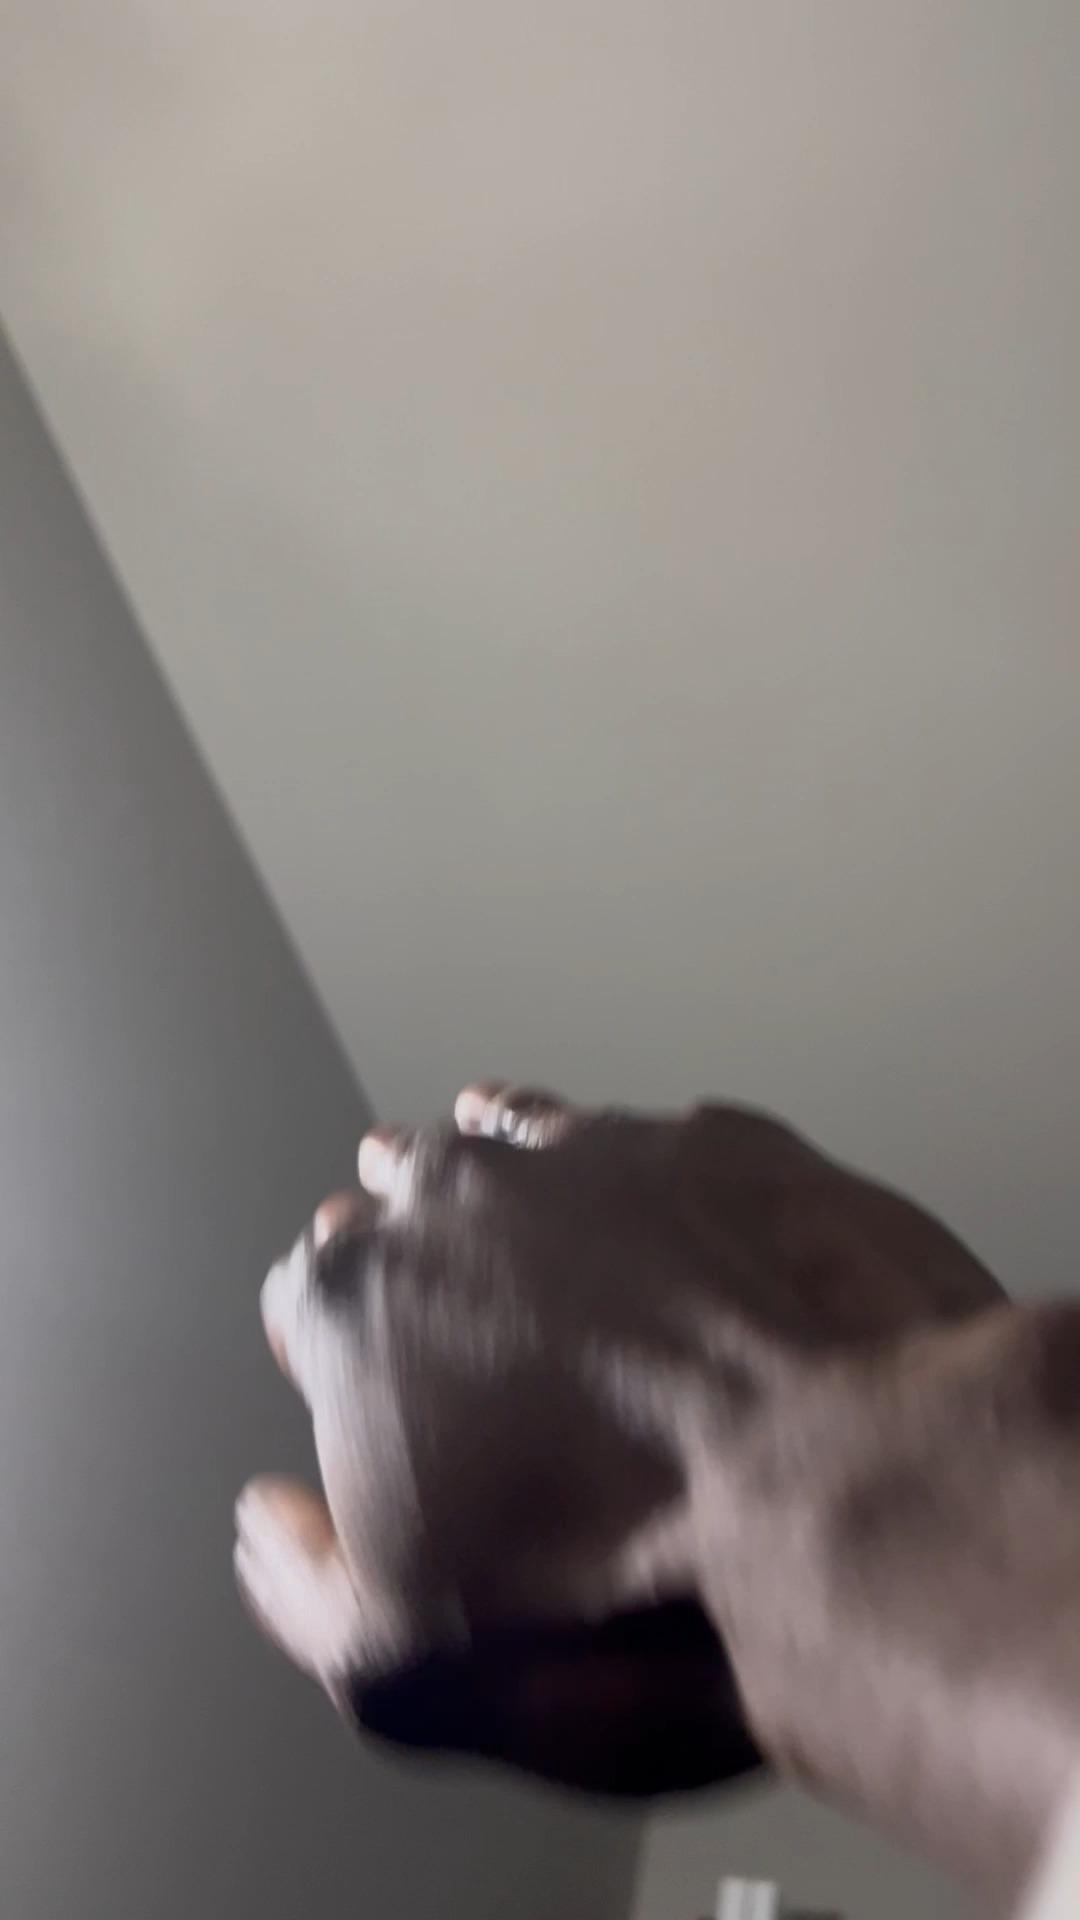Paper: (227, 1081, 1018, 1824)
